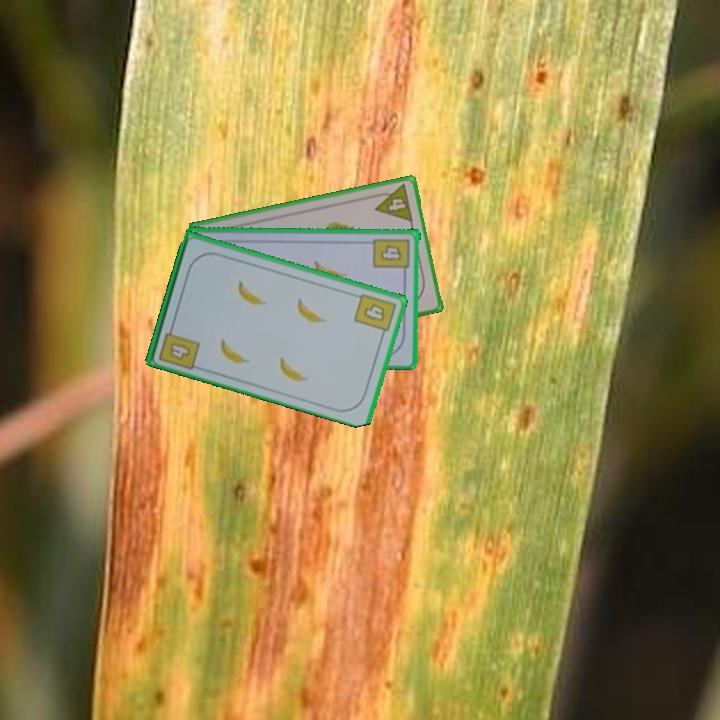4b: (155, 320, 203, 372), (350, 290, 399, 340), (371, 235, 413, 278)
4p: (369, 181, 416, 225)
